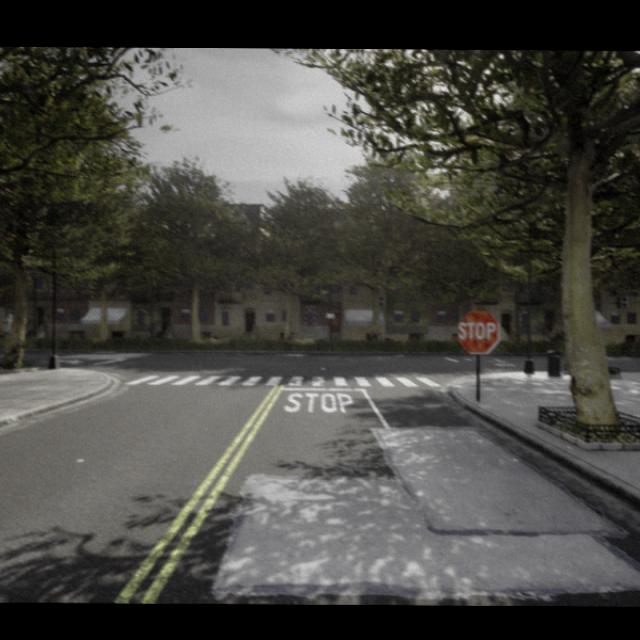stop sign: (453, 306, 502, 356), (457, 319, 498, 341)
